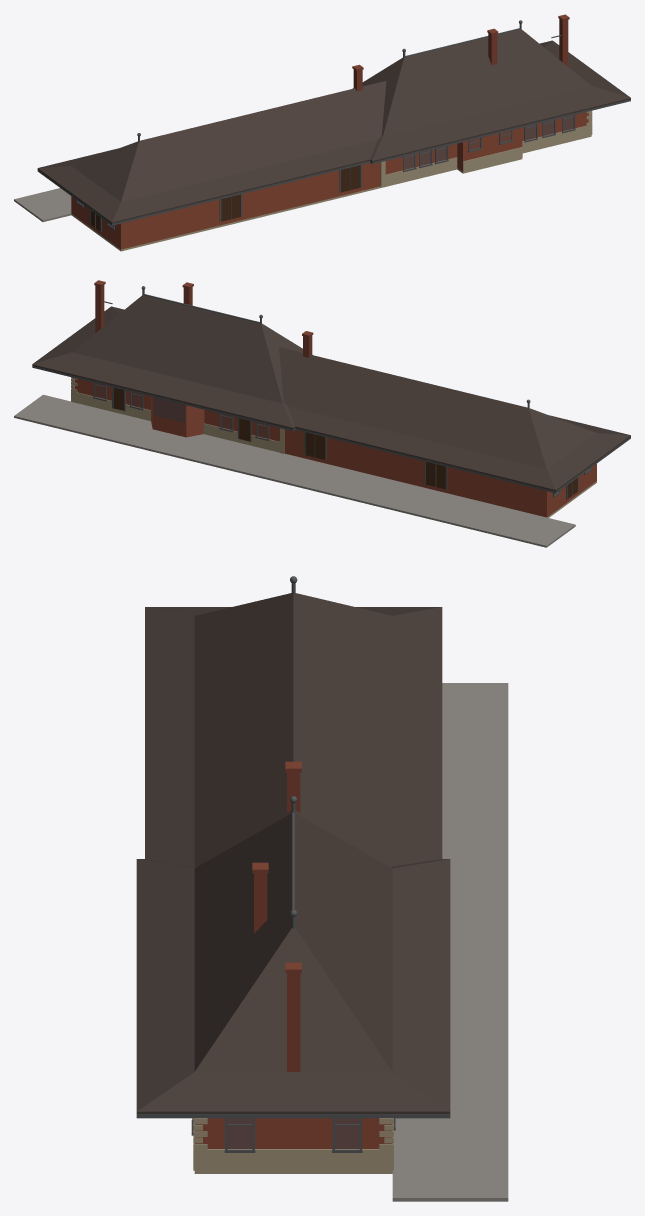
The model's file is West_Salem_Depot.glb.
The picture shows the model from 3 angles, top to bottom: view 1: azimuth 30°, elevation 25°; view 2: azimuth 150°, elevation 25°; view 3: azimuth 270°, elevation 25°; orthographic projection. The views are drawn at different scales.
Visible parts, largest first — view 1: roof, brick, stone, trim, platform, foundation, chimney, doors, glass, sash; view 2: roof, platform, brick, trim, stone, doors, glass, chimney, sash; view 3: roof, platform, brick, stone, chimney, trim, glass.
Boxes of the visible parts, x1,y1,x2,y2 form: roof: (37, 29, 630, 223); brick: (71, 112, 591, 249); stone: (380, 110, 592, 186); trim: (37, 20, 630, 232); platform: (14, 188, 71, 221); foundation: (71, 135, 591, 251); chimney: (352, 14, 569, 91); doors: (90, 165, 360, 230); glass: (78, 115, 573, 226); sash: (76, 115, 575, 229); roof: (32, 295, 630, 491); platform: (14, 394, 575, 547); brick: (72, 378, 596, 517); trim: (32, 286, 630, 499); stone: (71, 377, 284, 453); doors: (113, 387, 577, 498); glass: (95, 383, 589, 494); chimney: (94, 280, 313, 357); sash: (93, 382, 592, 497); roof: (136, 593, 450, 1114); platform: (392, 683, 508, 1201); brick: (194, 1118, 392, 1148); stone: (193, 1118, 393, 1170); chimney: (252, 761, 301, 1071); trim: (136, 576, 450, 1118); glass: (228, 1118, 359, 1148).
Size of the model in its own units: 1.55 by 0.3195 by 0.4729.
